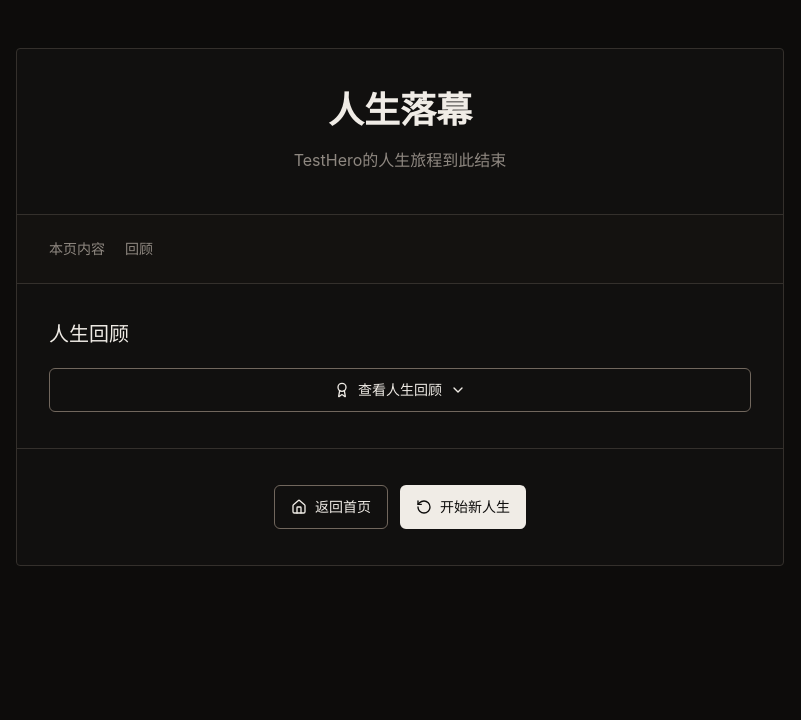
Test case: EndingPage › With ending data › renders explicit zero review stats, including the share preview
Click the button "查看人生回顾": (400, 390) [49, 368, 751, 412]
(page scrolled)
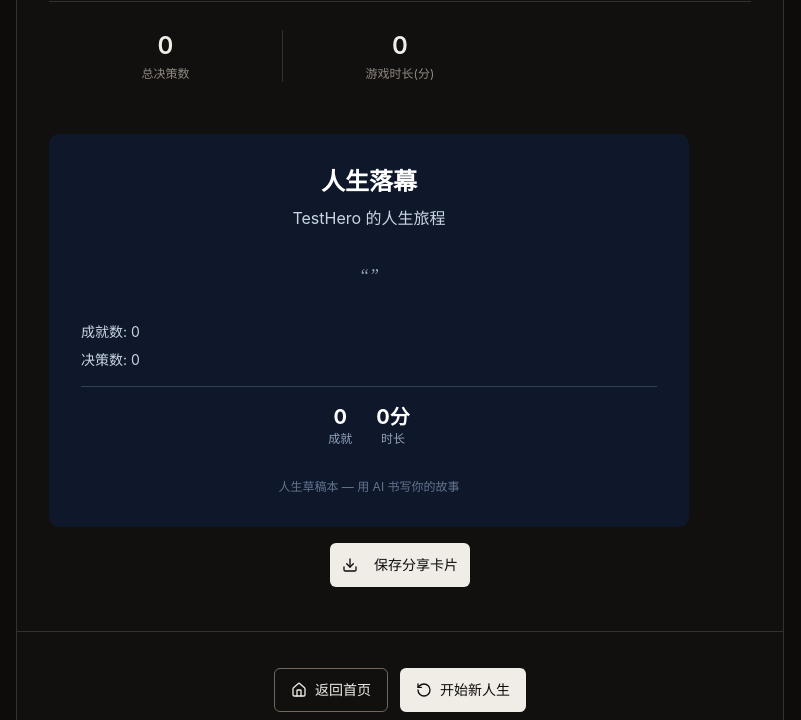
Expected: the text "总决策数" is shown, [142, 66, 190, 81]
Expected: the text "游戏时长(分)" is shown, [366, 66, 434, 81]
Expected: the text "0分" is shown, [376, 403, 410, 431]
